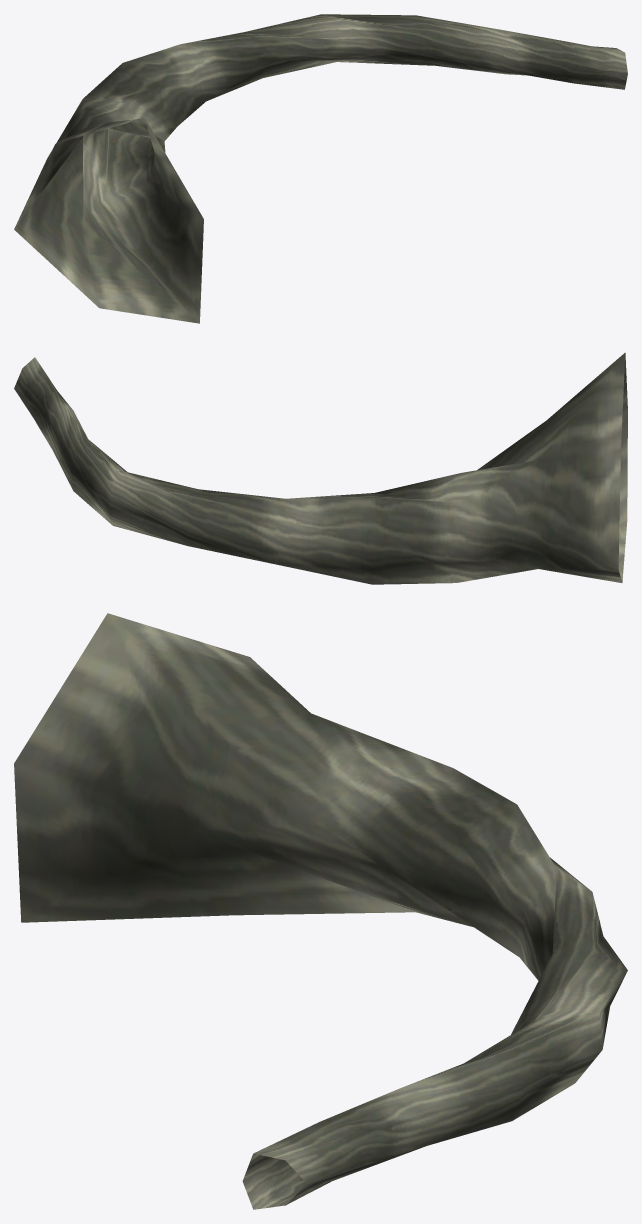
File: INST_SWORDLIGHT_ROOTA.fbx
3 views of the same model, one above another, from view 1: azimuth 30°, elevation 25°; view 2: azimuth 150°, elevation 25°; view 3: azimuth 270°, elevation 25° (orthographic). The views are drawn at different scales.
Visible parts, largest first — view 1: INST_SWORDLIGHT_ROOTA; view 2: INST_SWORDLIGHT_ROOTA; view 3: INST_SWORDLIGHT_ROOTA.
Boxes of the visible parts, x1,y1,x2,y2 form: INST_SWORDLIGHT_ROOTA: [14, 14, 627, 323]; INST_SWORDLIGHT_ROOTA: [14, 353, 627, 584]; INST_SWORDLIGHT_ROOTA: [14, 613, 627, 1209].
Size of the model in its own units: 49710 by 16225 by 29373.
Materials: 1 (1 with a texture image).
